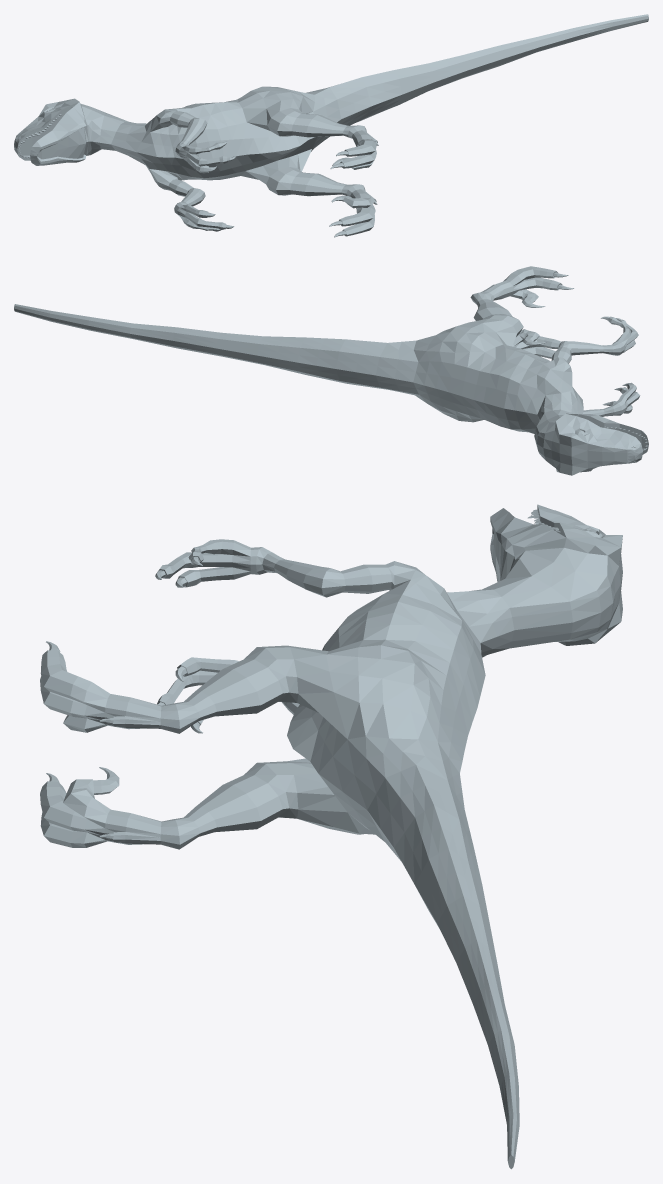
File: pcf scene.obj
3 views of the same model, one above another, from view 1: azimuth 30°, elevation 25°; view 2: azimuth 150°, elevation 25°; view 3: azimuth 270°, elevation 25° (orthographic). The views are drawn at different scales.
Parts seen in each view (by area): view 1: Velociraptor_Cylinder.004; view 2: Velociraptor_Cylinder.004; view 3: Velociraptor_Cylinder.004.
Boxes of the visible parts, x1=… form: Velociraptor_Cylinder.004: x1=14, y1=14, x2=648, y2=237; Velociraptor_Cylinder.004: x1=14, y1=266, x2=648, y2=475; Velociraptor_Cylinder.004: x1=40, y1=504, x2=622, y2=1169.
Size of what is drawn, in the model's own units: 4.77 by 0.6501 by 1.93.
1 material, 1 textured.
